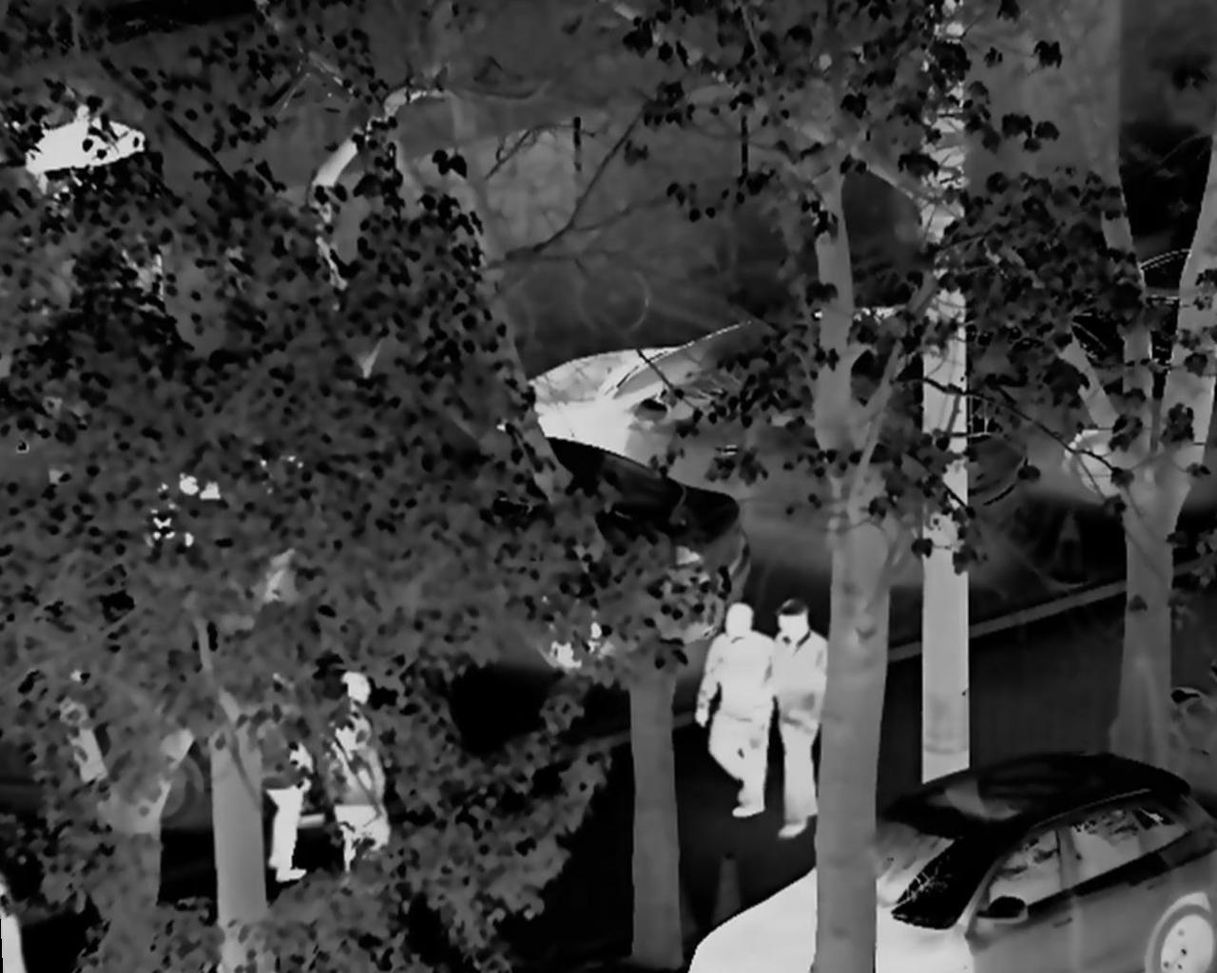person: (755, 604, 840, 842), (694, 599, 781, 819), (322, 665, 392, 897), (255, 721, 317, 883)
